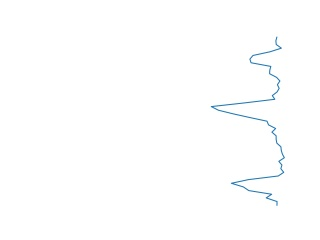underwaterNaturalLevee: (210, 36, 289, 211)
